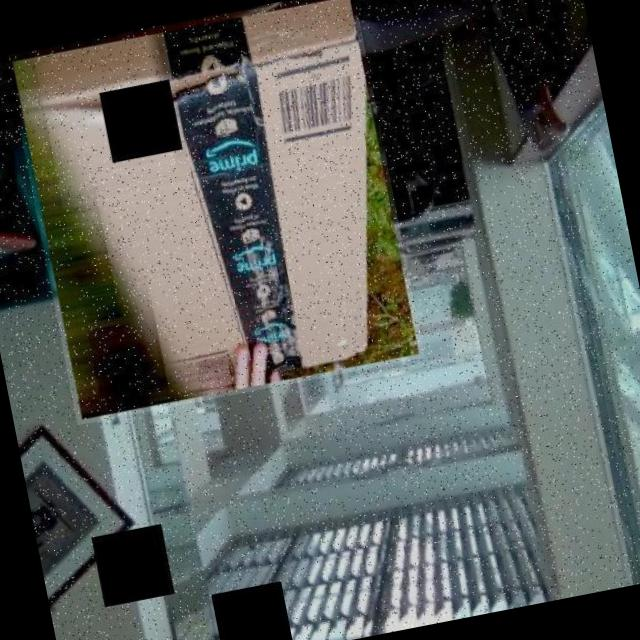box: (5, 0, 424, 425)
